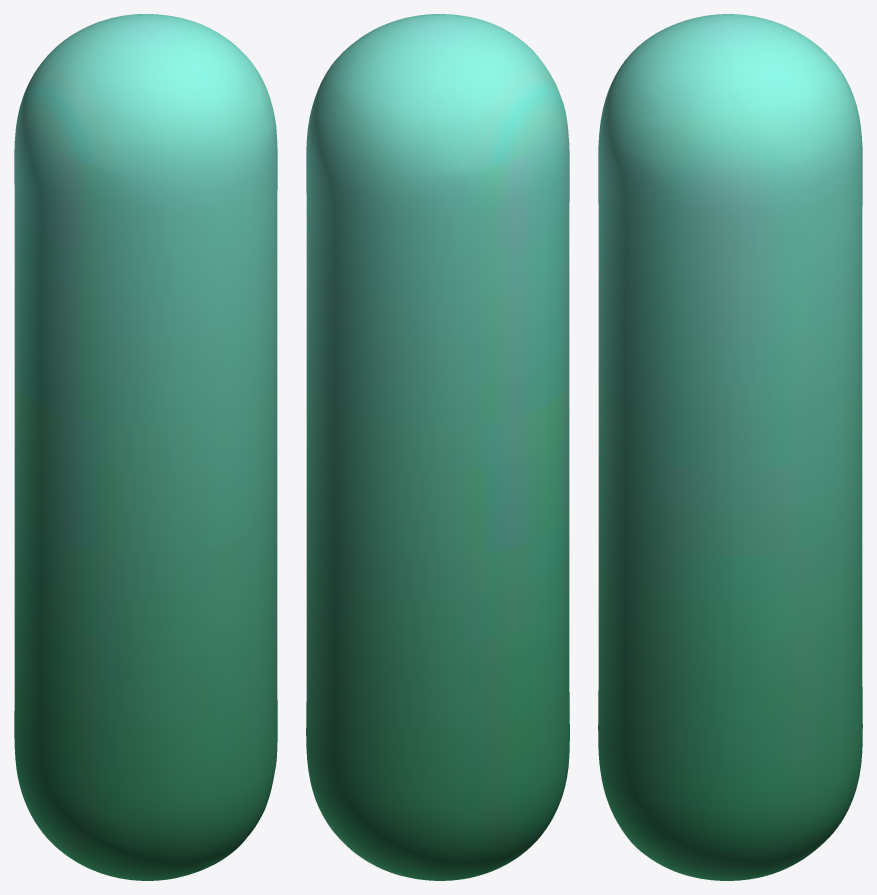
3 views of the same model, side by side, from view 1: azimuth 30°, elevation 25°; view 2: azimuth 150°, elevation 25°; view 3: azimuth 270°, elevation 25° (orthographic).
Visible parts, largest first — view 1: I; view 2: I; view 3: I.
Boxes of the visible parts, x1,y1,x2,y2 form: I: (14, 14, 277, 880); I: (306, 14, 569, 880); I: (598, 14, 862, 880).
Bounding box in the file's own units: 1.93 × 6.75 × 1.93.
Materials: 1 (1 with a texture image).
